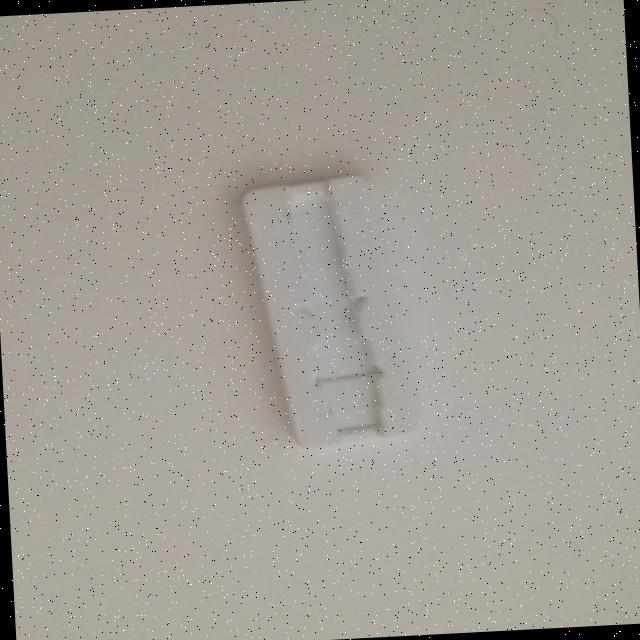plastic: (238, 172, 412, 452)
